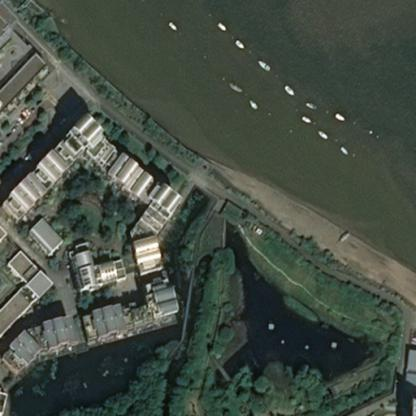ship: (255, 17, 271, 30), (226, 81, 240, 92), (316, 123, 328, 135), (337, 142, 348, 155), (216, 20, 227, 32), (283, 80, 294, 92), (296, 115, 312, 123), (328, 111, 342, 120), (303, 99, 315, 109), (246, 99, 258, 109), (163, 20, 173, 30), (233, 0, 245, 8), (368, 125, 371, 129)
